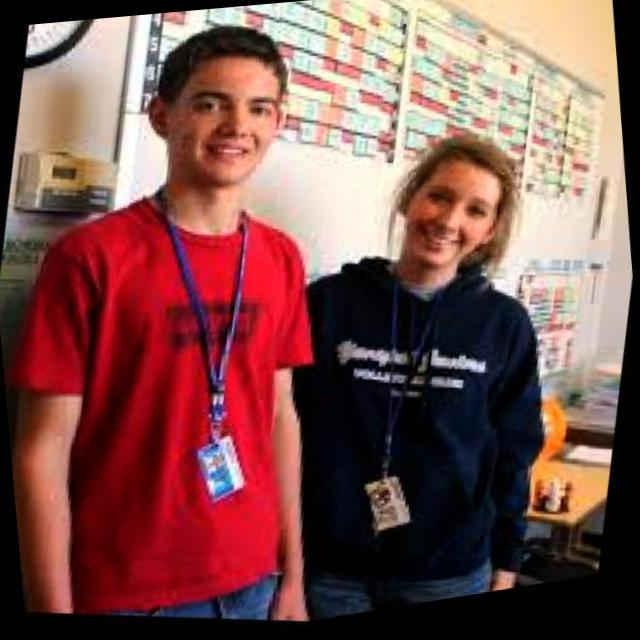id_card: (152, 183, 268, 507), (346, 258, 460, 537)
